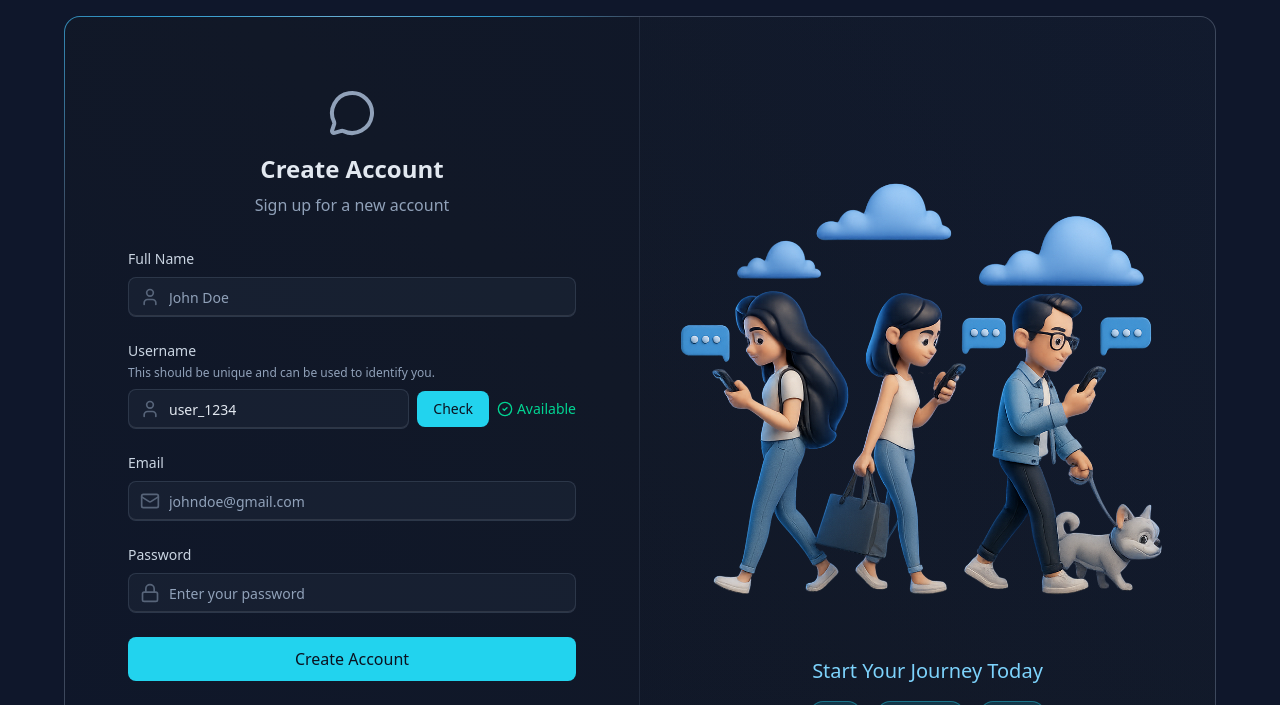
SignUpPage username check › supports checking a custom username after editing
Expected: the text "Available" is shown, [517,399,576,419]
Clear the field with placeholder "user_1234" at (269, 409), box [128,389,409,429]
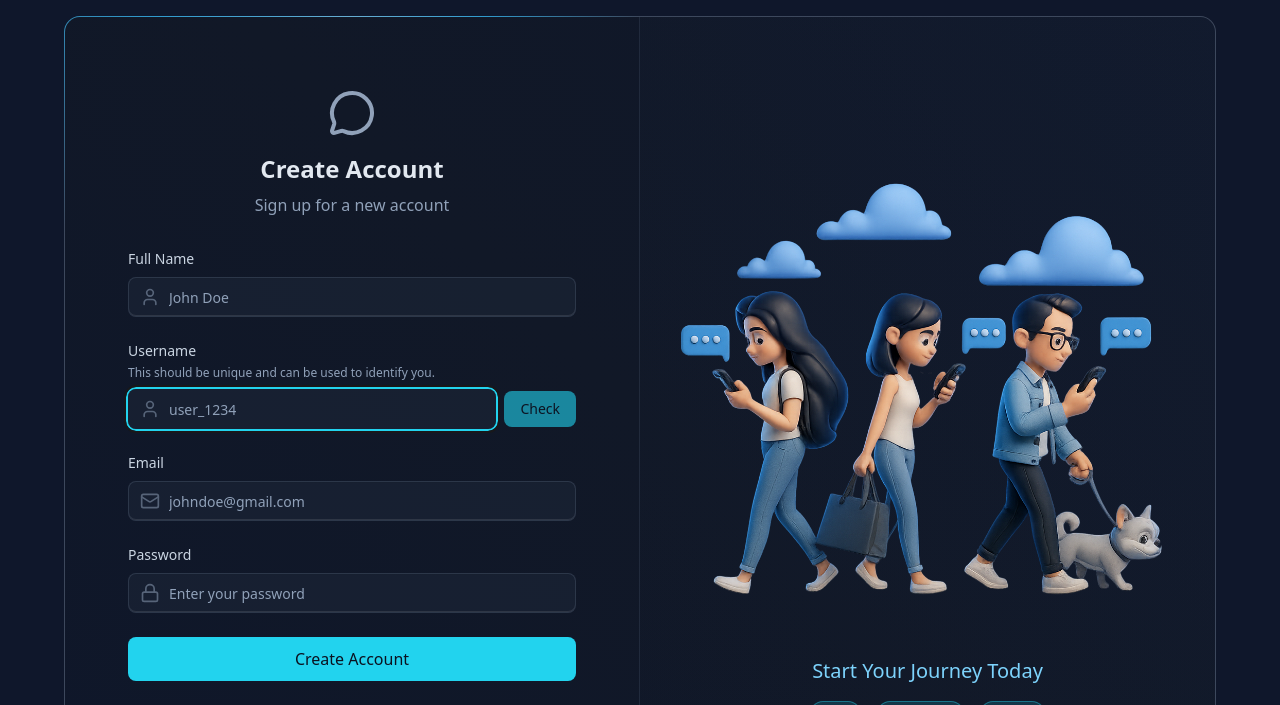
Type "user_7777" into the field with placeholder "user_1234" at (312, 409), box [128,389,496,429]
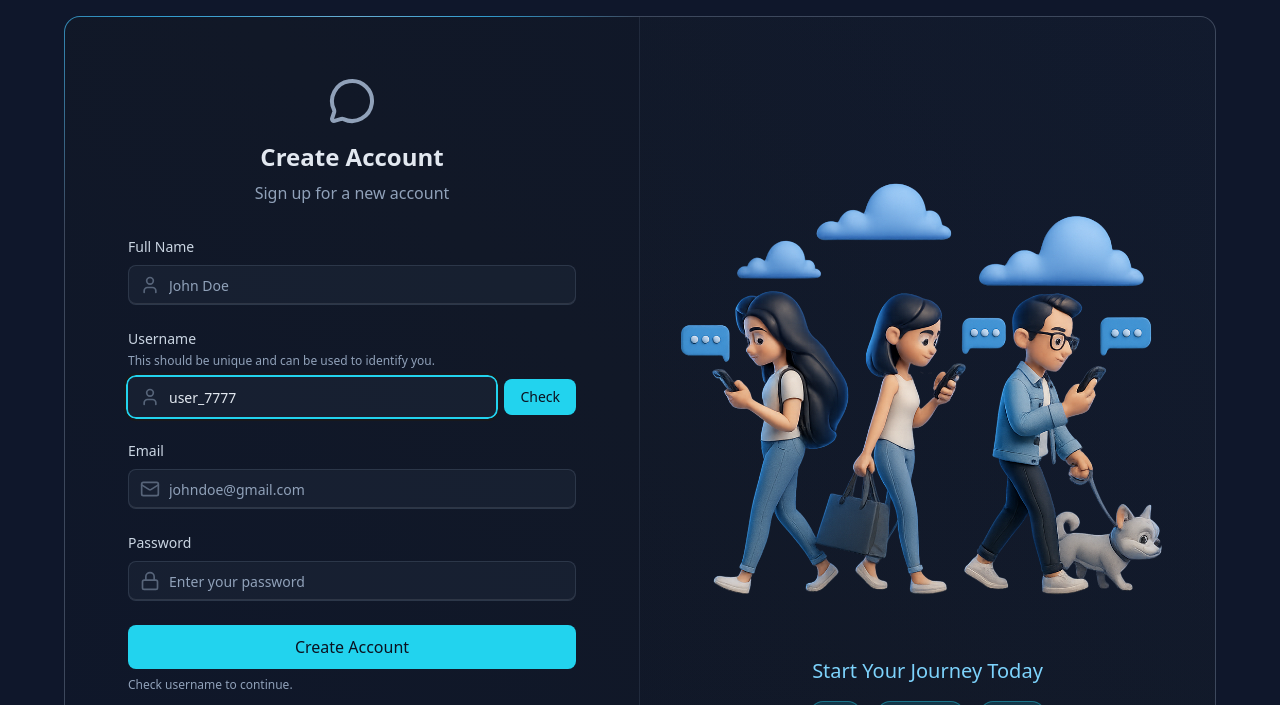
Now the text "Check username to continue." is shown, box [128,676,293,693]
Click the button "Check" at (540, 397), box [504,379,576,415]
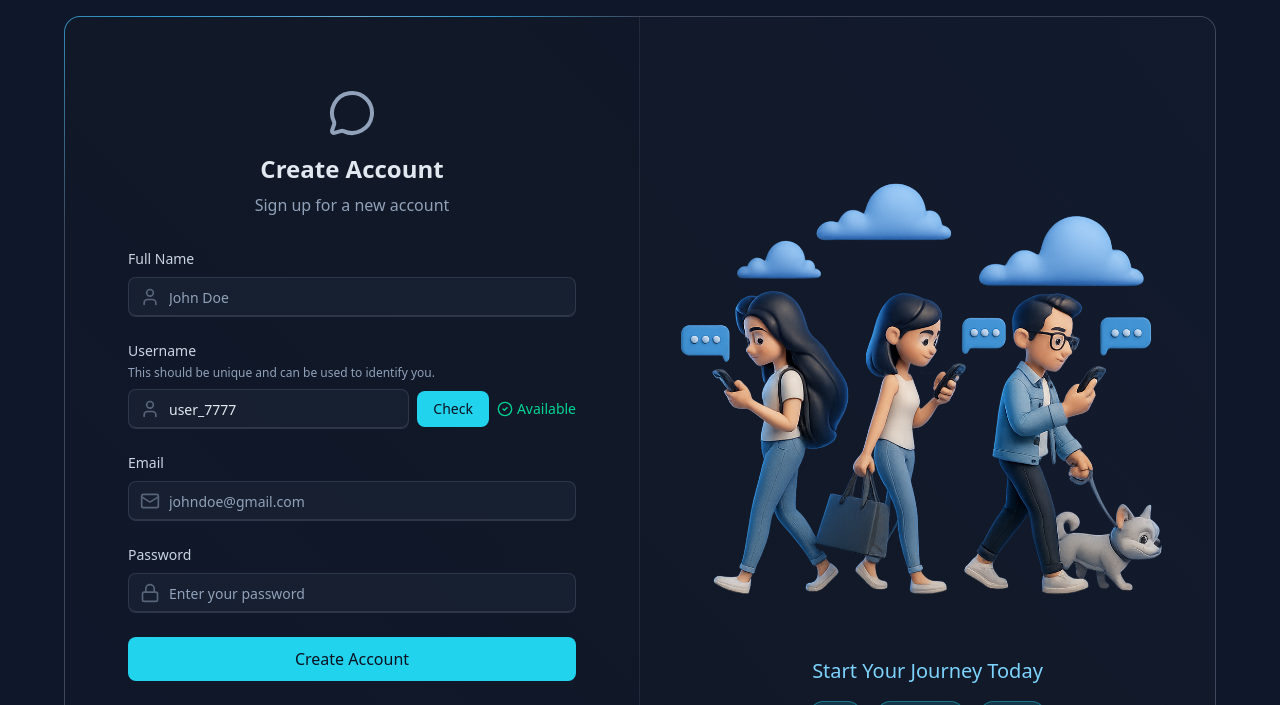
Now the text "Available" is shown, box [517,399,576,419]
Now the text "Check username to continue" is gone
Now the button "Create Account" is enabled, box [128,637,576,681]
